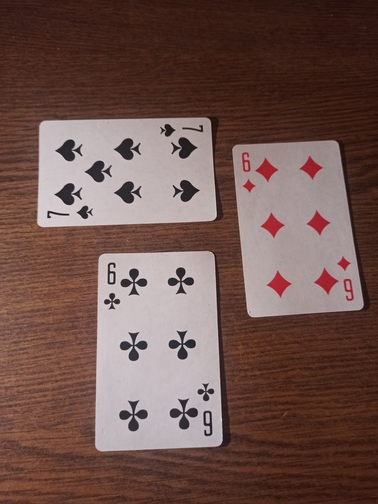sevenspades: (34, 113, 219, 227)
sixclubs: (95, 252, 224, 450)
sixdiamonds: (230, 139, 369, 319)
